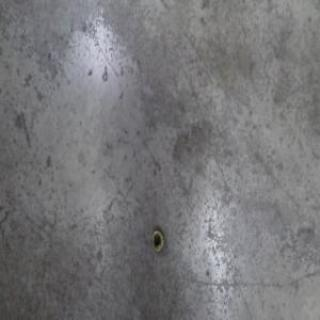Nuttrack_idkeyframe: (149, 227, 164, 255)
